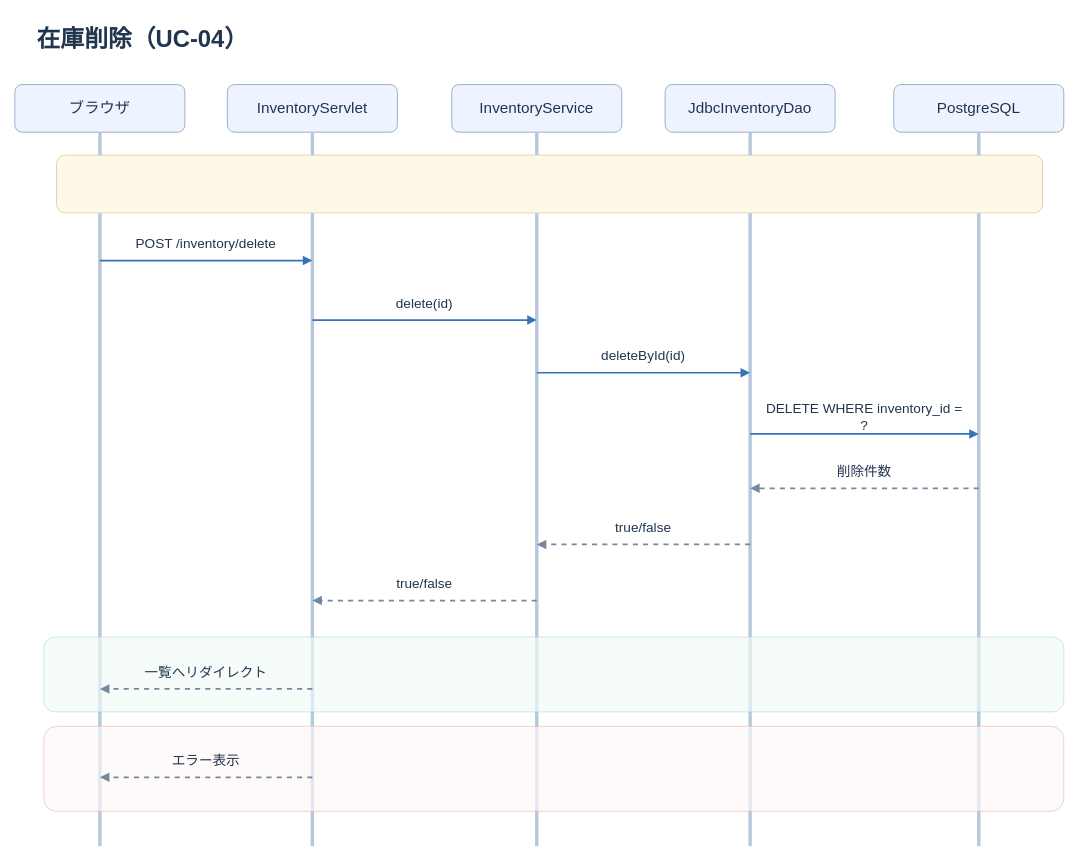
Image size: 1079x860. Some labels were removed from this diagram. Here are the shapes that lost their labels. From the top down, the box of each, then its label:
(56, 154, 1043, 213): キャンセル時は削除POSTを送信しない
(43, 636, 1064, 712): 削除成功
(43, 725, 1064, 811): 対象なし
